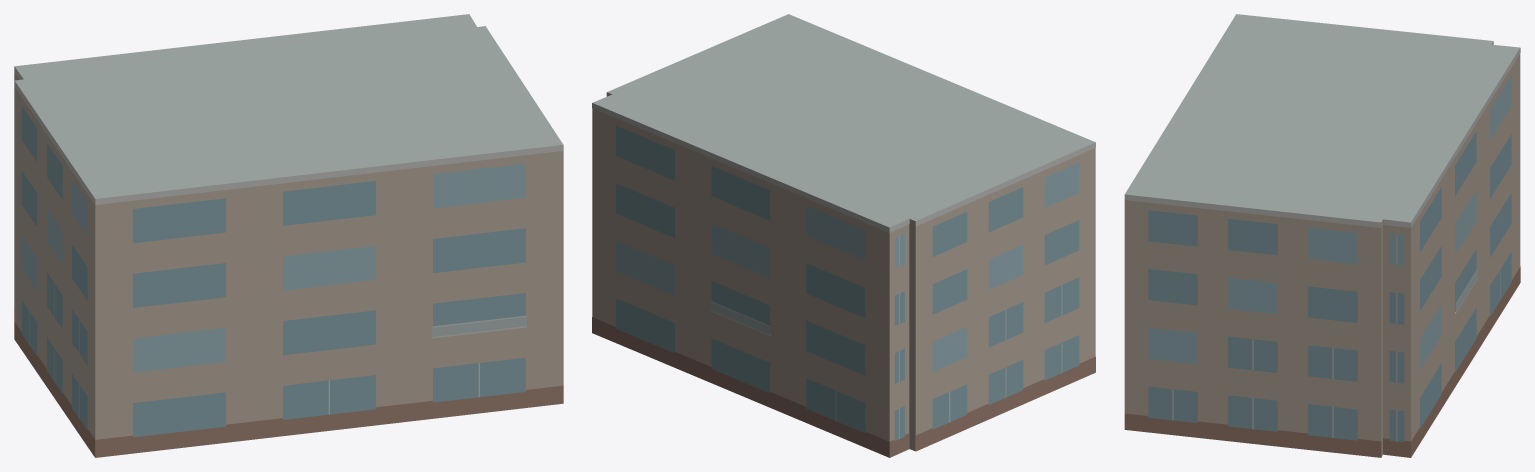
Rendered from survey-upis-32934672.glb.
3 renders of one model, left to right at view 1: azimuth 30°, elevation 25°; view 2: azimuth 150°, elevation 25°; view 3: azimuth 270°, elevation 25°, orthographic. The views are drawn at different scales.
Visible parts, largest first — view 1: survey-upis-32934672.tmp; view 2: survey-upis-32934672.tmp; view 3: survey-upis-32934672.tmp.
Boxes of the visible parts, bbox=[...] form: survey-upis-32934672.tmp: bbox=[14, 14, 563, 457]; survey-upis-32934672.tmp: bbox=[592, 14, 1095, 457]; survey-upis-32934672.tmp: bbox=[1124, 14, 1520, 457].
Size of the model in its own units: 19.87 by 10.45 by 15.94.
